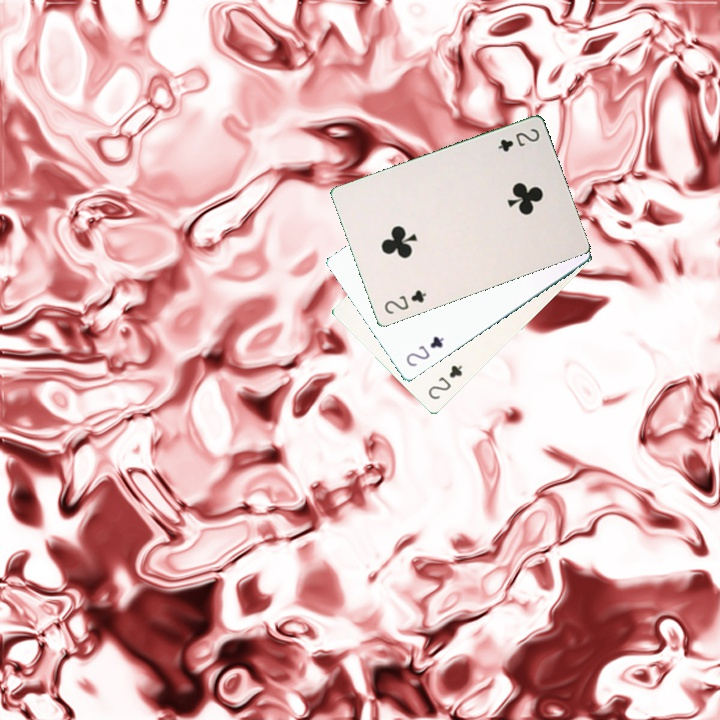2c: (424, 361, 465, 402), (402, 332, 446, 369), (380, 286, 429, 317), (494, 124, 542, 154)
